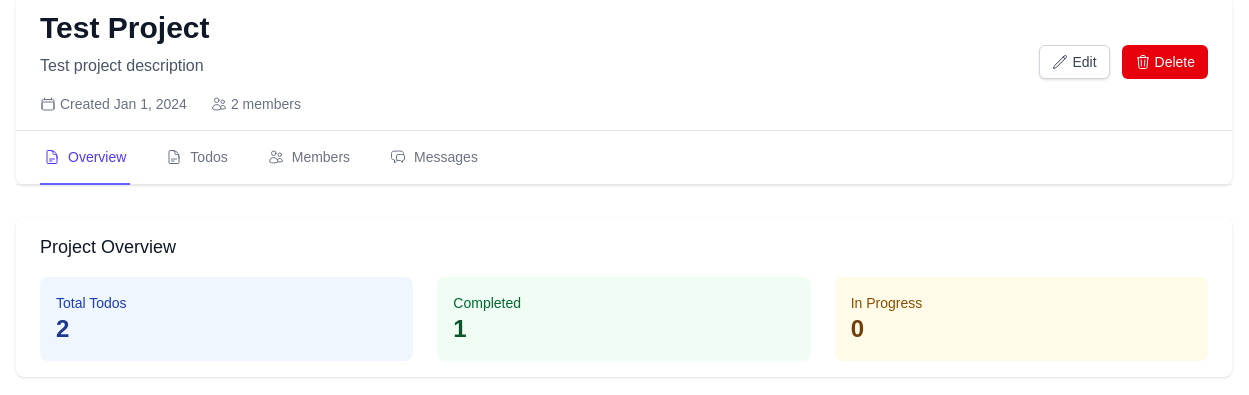
Test: ProjectDetailPage › should switch to messages tab when clicked
The image size is (1249, 395).
What coordinates should you click on to do the following:
click the button "Messages"
I would click on:
 (434, 158)
Its box is [386,131,482,185].
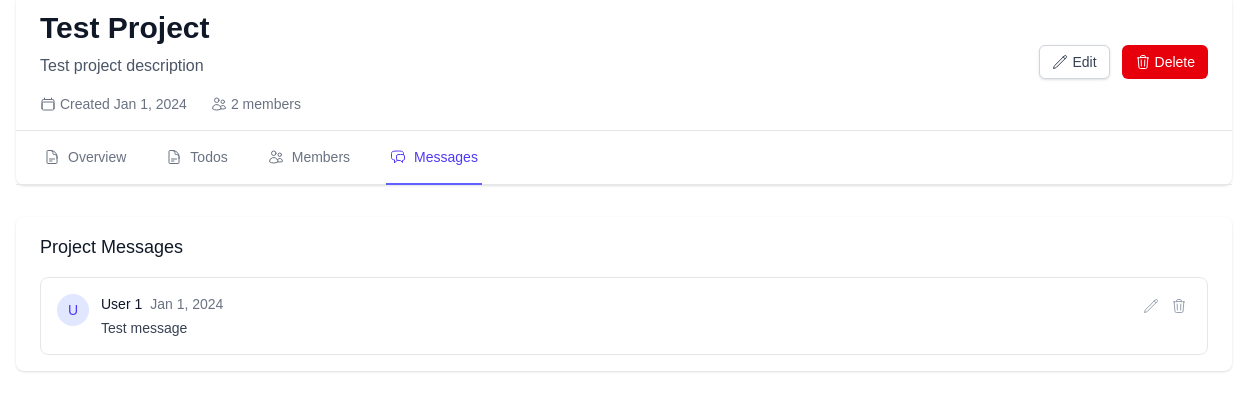
Now the heading "Project Messages" is shown, box [40,237,183,257]
Now the heading "User 1" is shown, box [101,294,142,314]
Now the text "Test message" is shown, box [101,320,187,336]
